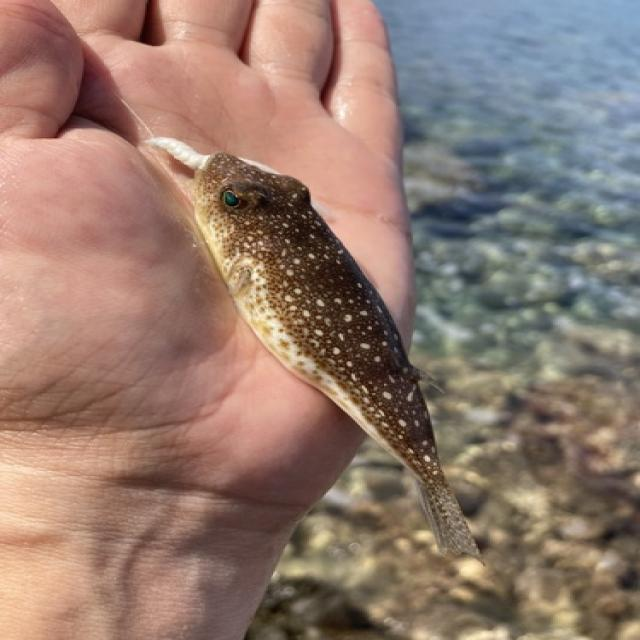Balik: (151, 139, 479, 556)
